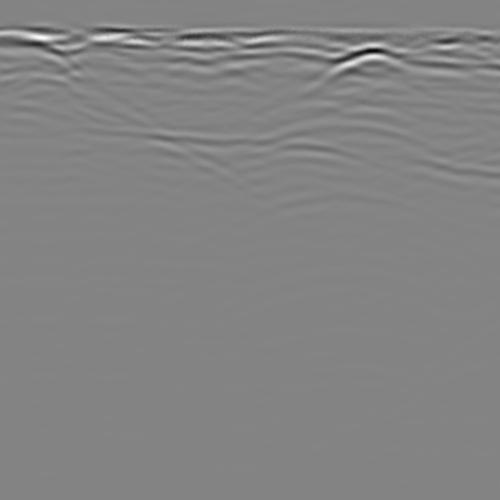hyperbola: (194, 100, 461, 232)
